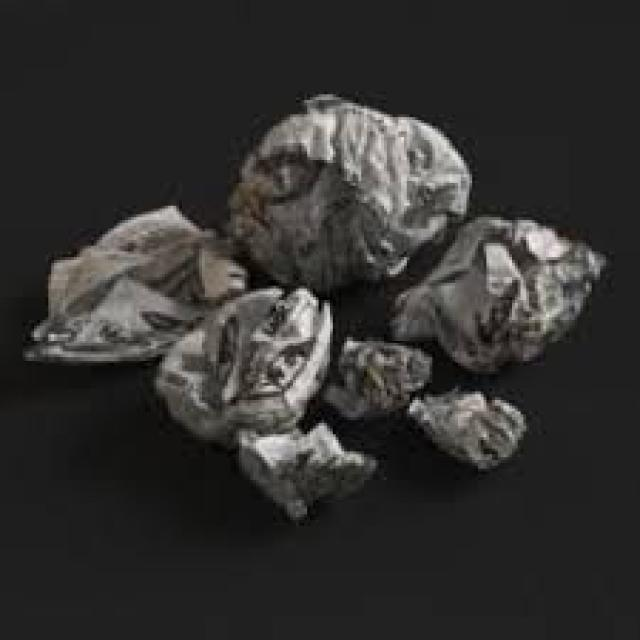Paper: (226, 107, 472, 281), (30, 201, 248, 365), (396, 218, 608, 366), (157, 286, 334, 434), (248, 416, 379, 515), (411, 391, 526, 477), (321, 335, 433, 422)
